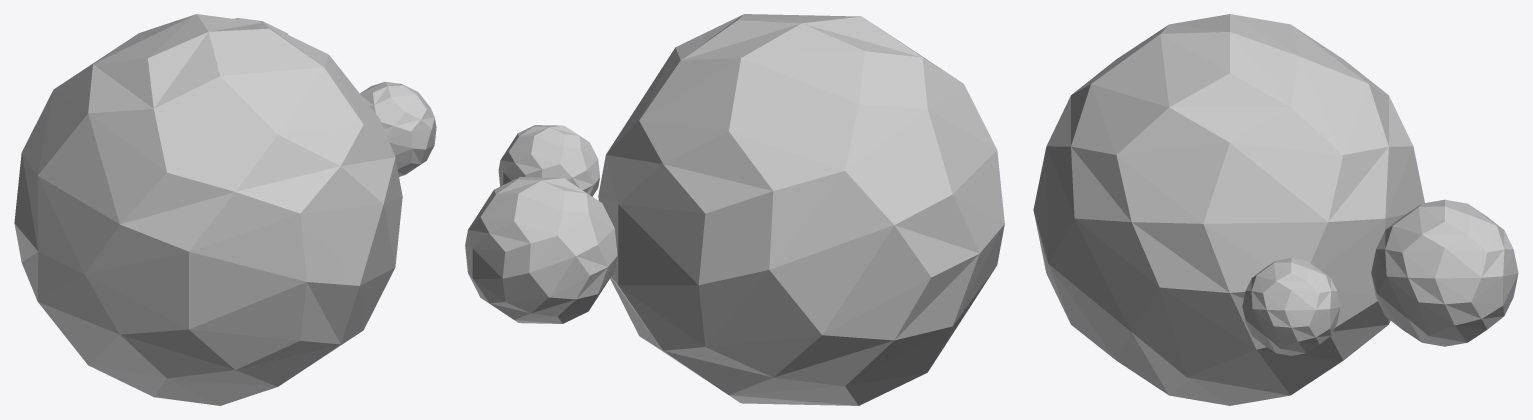
Rendered from Rock.glb.
3 views of the same model, side by side, from view 1: azimuth 30°, elevation 25°; view 2: azimuth 150°, elevation 25°; view 3: azimuth 270°, elevation 25° (orthographic). The views are drawn at different scales.
Visible parts, largest first — view 1: dodecahedron (×2); view 2: dodecahedron (×3); view 3: dodecahedron (×3).
Part boxes in pixels (left/top/right/bottom): dodecahedron (×2): left=14, top=14, right=436, bottom=405; dodecahedron (×3): left=465, top=14, right=1004, bottom=405; dodecahedron (×3): left=1033, top=14, right=1518, bottom=405.
Size of the model in its own units: 1.24 by 1 by 1.23.
1 material, 1 textured.
